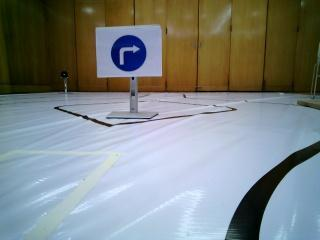right: (98, 30, 161, 76)
